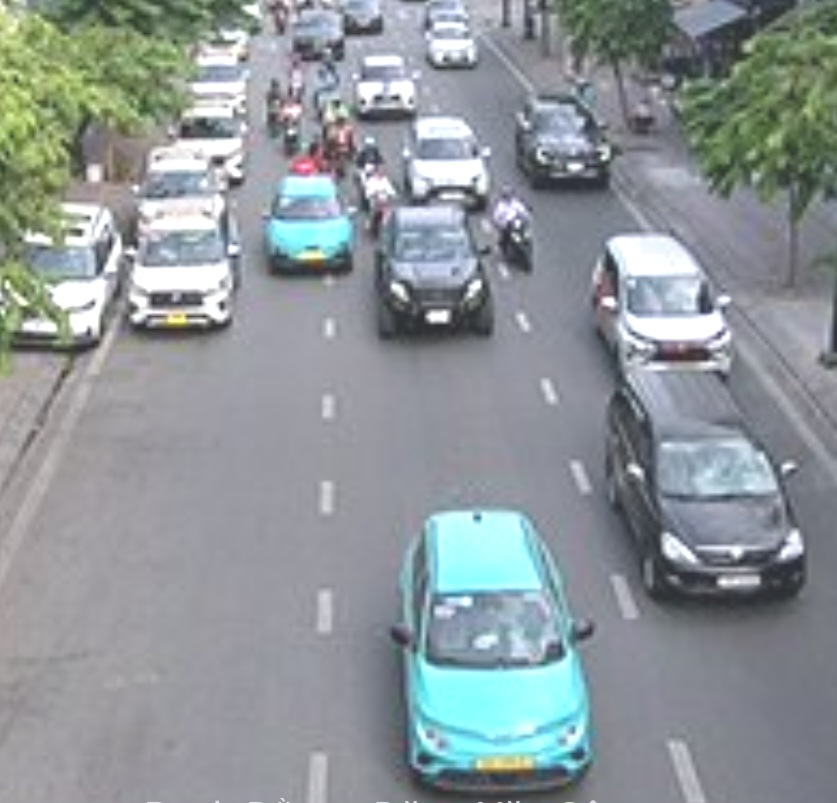car: (403, 509, 594, 782), (606, 381, 808, 598), (592, 238, 737, 367), (371, 213, 493, 335), (131, 223, 236, 327), (513, 91, 611, 190), (268, 170, 352, 275), (401, 115, 492, 207), (137, 144, 227, 224), (168, 105, 245, 151), (356, 60, 419, 116), (183, 52, 251, 97), (288, 10, 346, 60), (425, 23, 478, 65)
